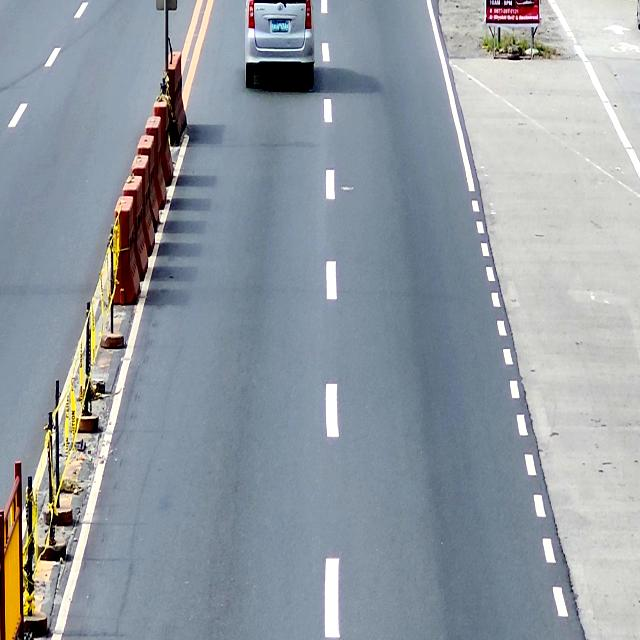Car: (244, 0, 316, 91)
License-Plate: (271, 19, 289, 34)
